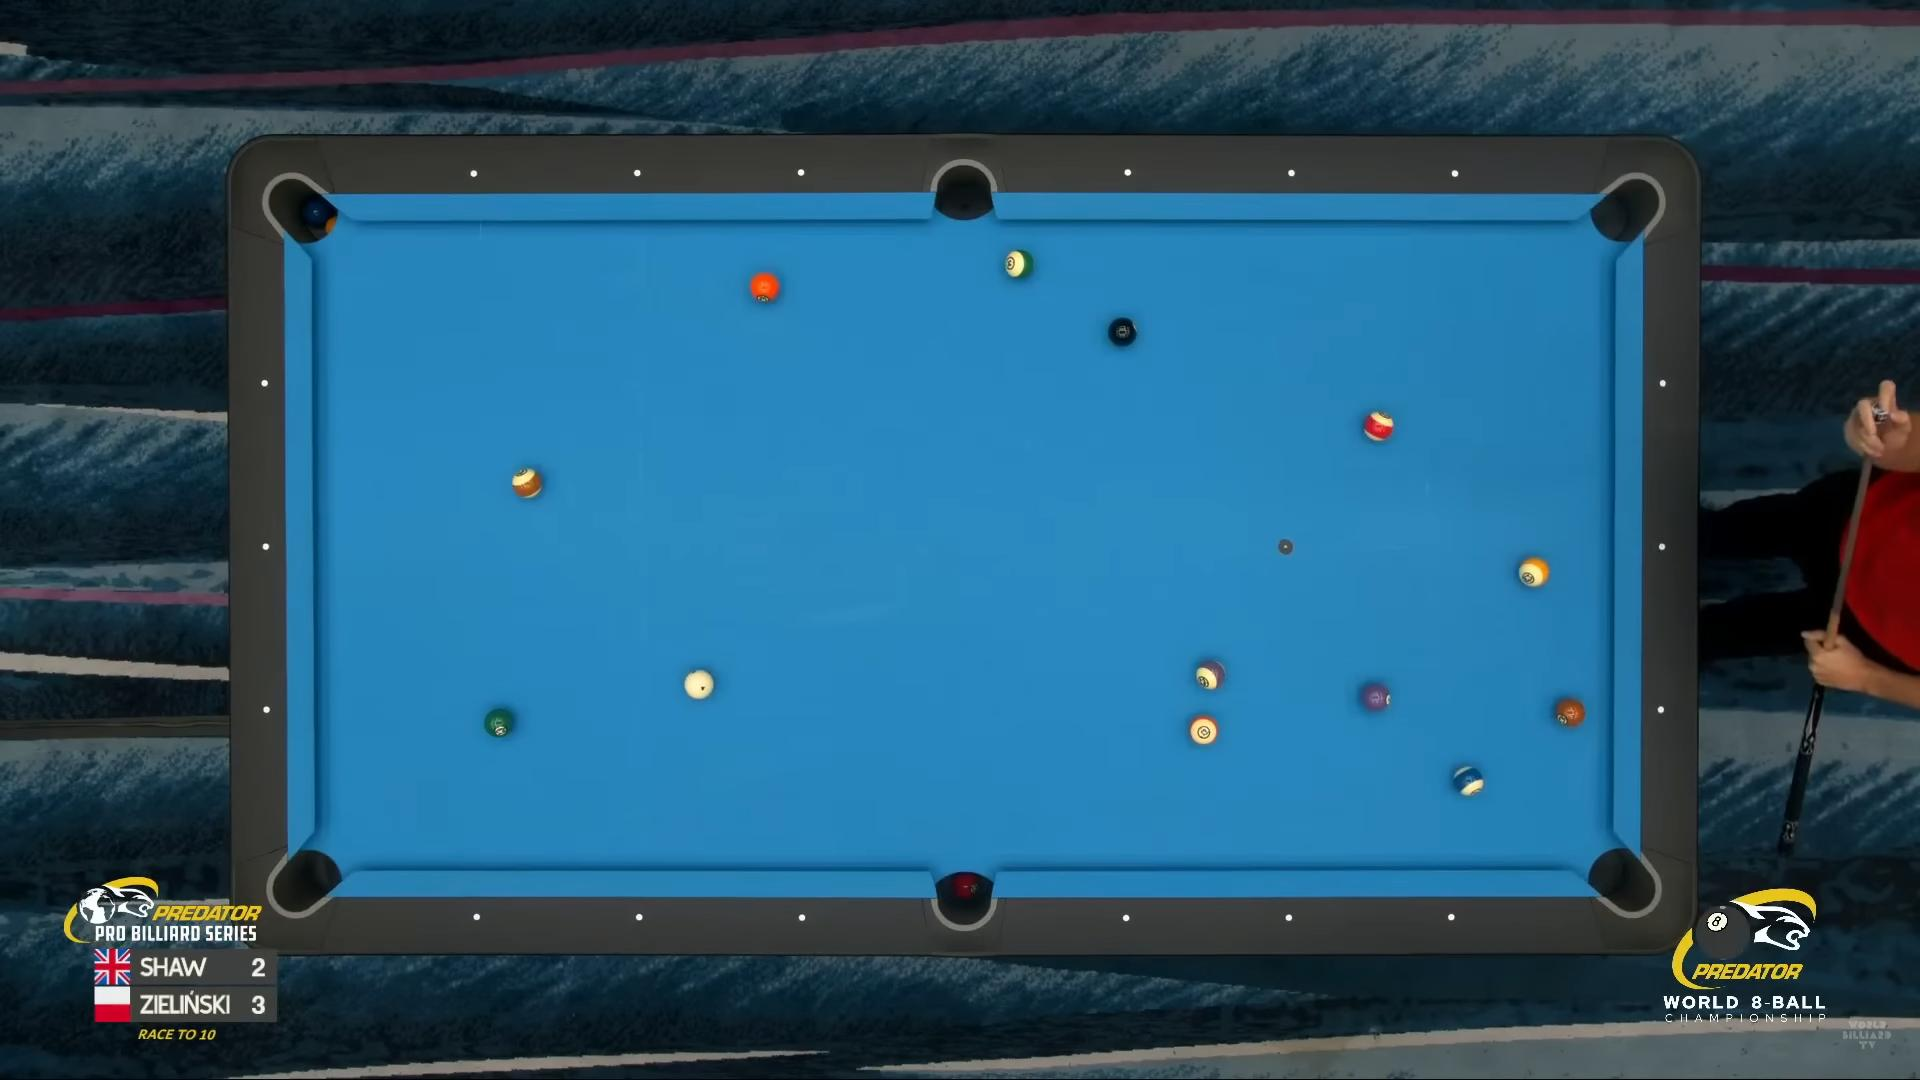Black: (1109, 318, 1138, 347)
Cue: (684, 669, 715, 699)
Dot: (257, 703, 272, 717), (258, 539, 273, 554), (795, 166, 810, 181), (1121, 166, 1135, 181), (1284, 166, 1299, 181), (1280, 910, 1295, 924), (468, 910, 483, 924), (257, 377, 272, 390), (467, 166, 480, 181), (630, 166, 645, 179), (1448, 166, 1461, 181), (1656, 377, 1669, 392), (1655, 703, 1668, 717), (1444, 911, 1458, 924), (632, 910, 645, 924), (1655, 541, 1668, 554), (1118, 913, 1131, 926), (795, 911, 808, 924)
Solid: (1556, 696, 1585, 727), (750, 273, 779, 303), (485, 709, 514, 738), (1362, 684, 1391, 711)
Striped: (1362, 410, 1393, 442), (1196, 659, 1226, 691), (1519, 556, 1549, 587), (1453, 766, 1484, 796), (513, 468, 543, 498), (1191, 716, 1220, 745), (1005, 249, 1034, 278)
